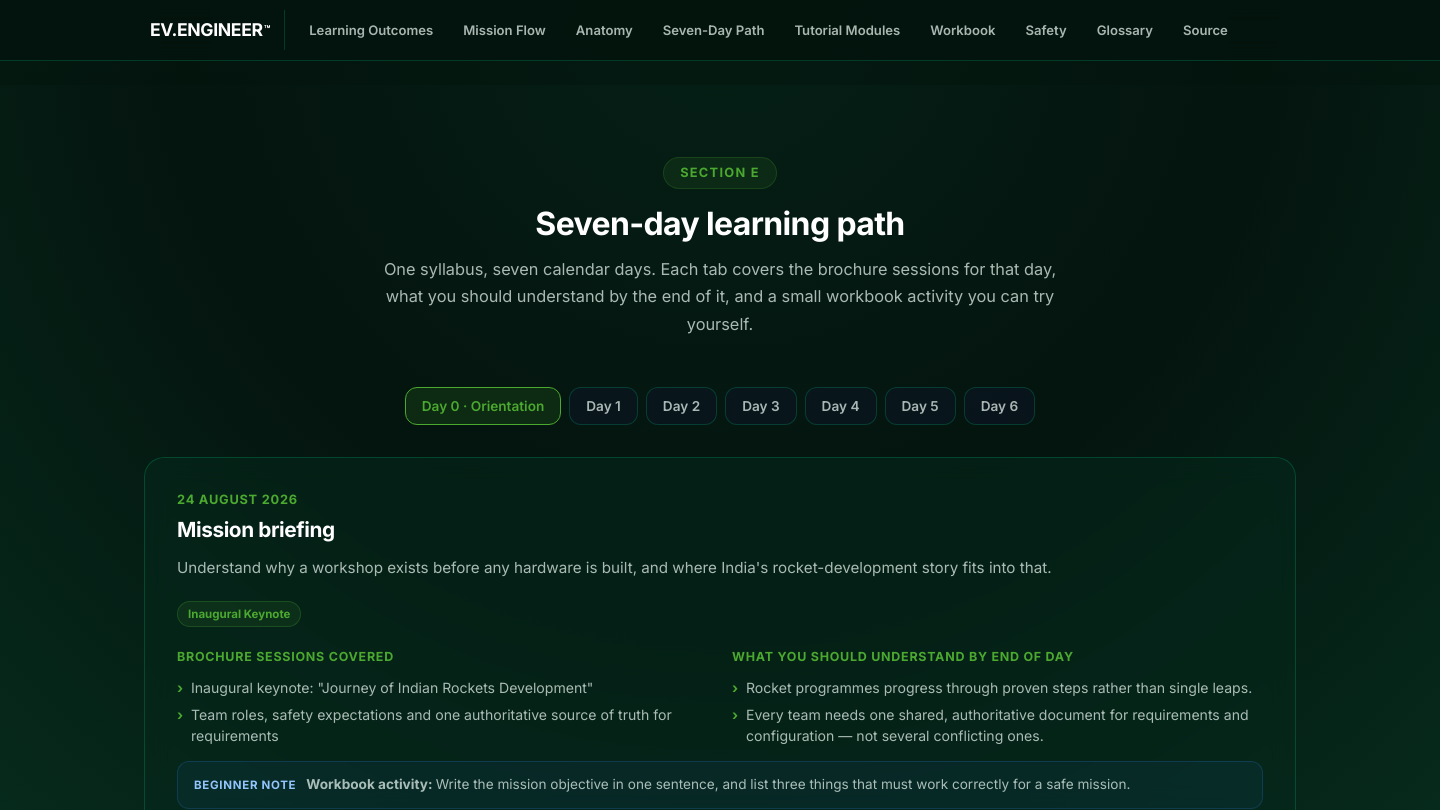
it: Model Rocketry learning guide page › switches the visible day panel when a different day tab is clicked
(page scrolled)
Expected: the heading "Mission briefing" is shown, [177,517,335,542]
Click the tab "Day 1": (604, 406) [569,387,638,425]
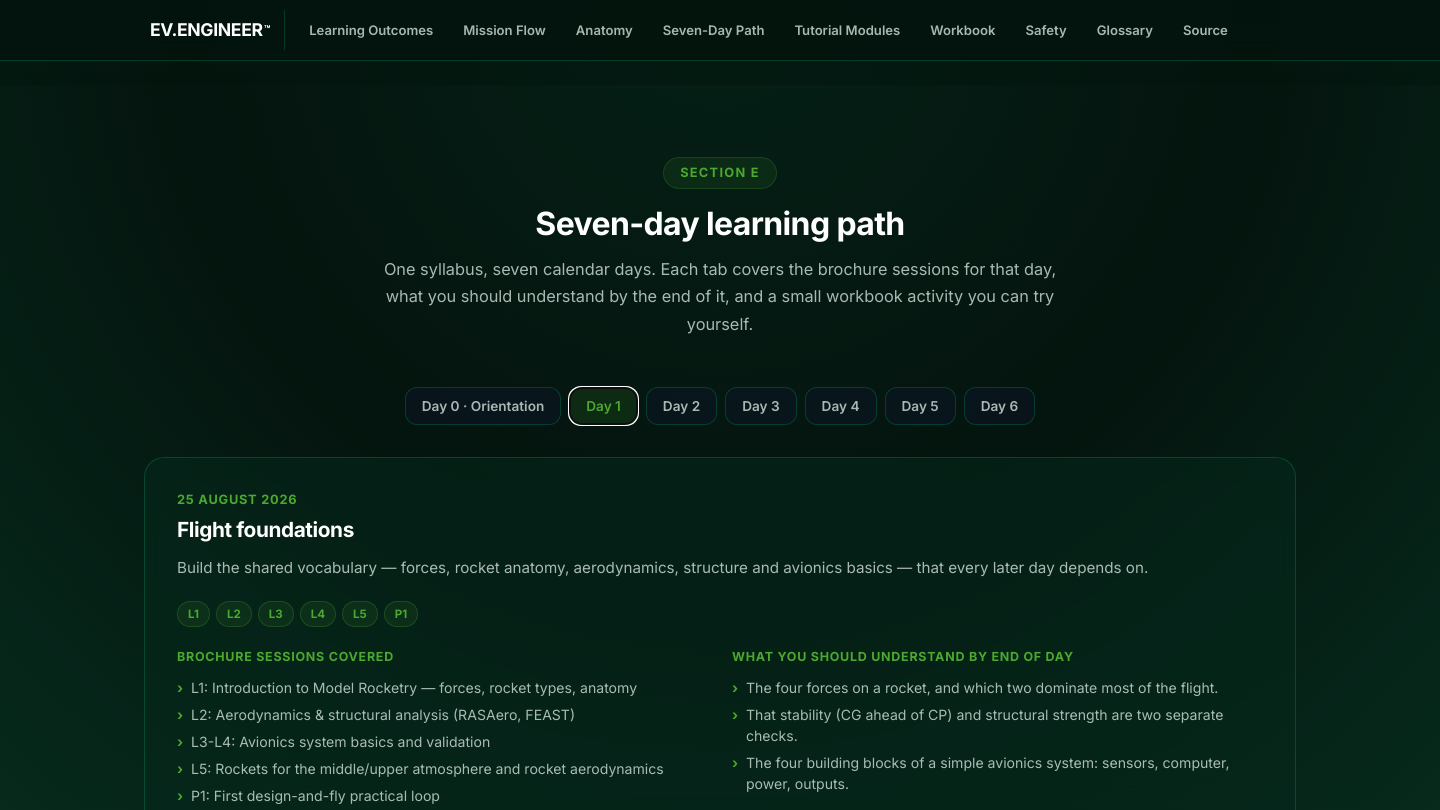
Expected: the heading "Flight foundations" is shown, [177,517,354,542]
